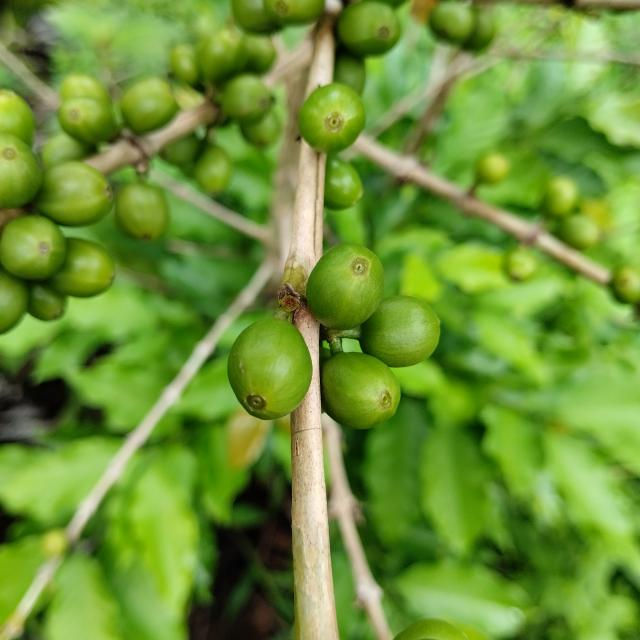green: (228, 318, 312, 420), (306, 243, 385, 330), (321, 352, 401, 430), (360, 295, 441, 367), (35, 161, 112, 226), (299, 82, 366, 153), (0, 215, 66, 280), (48, 238, 114, 297), (338, 0, 401, 55), (0, 133, 42, 208), (324, 156, 363, 210)
